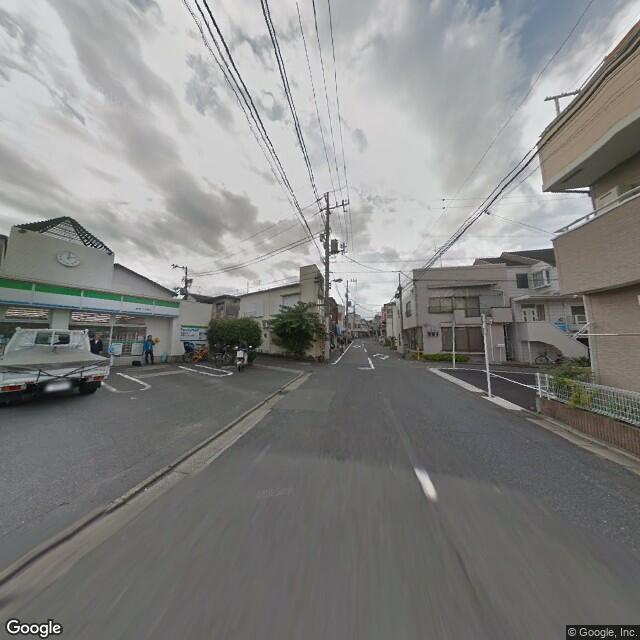family_mart: (1, 273, 184, 321)
